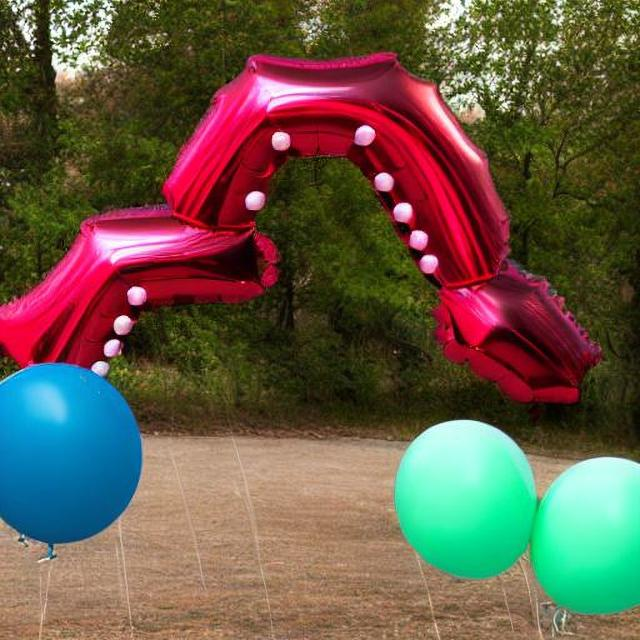balloon: (381, 410, 638, 612), (0, 352, 143, 546)
floating object: (9, 29, 612, 407)
